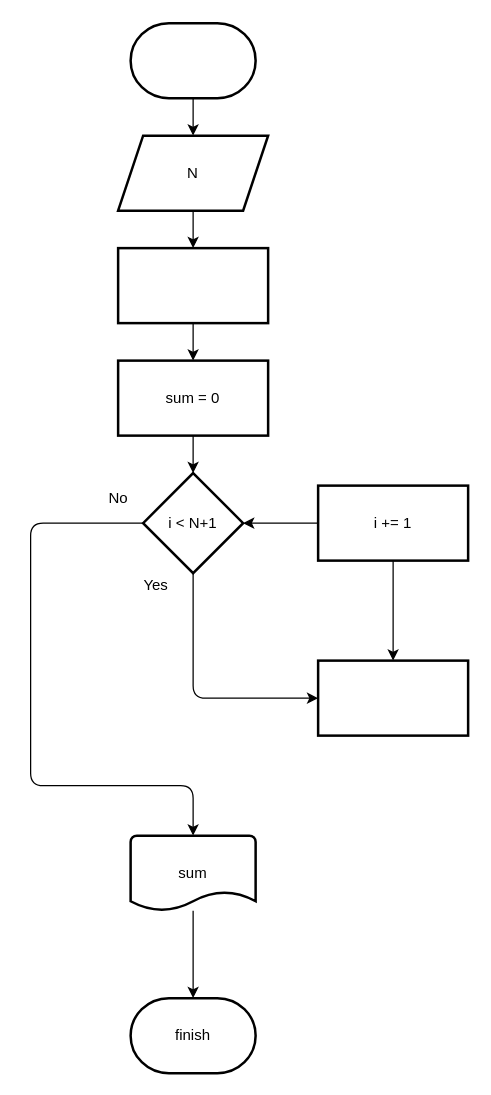
Some shapes in this 491 by 1095 pixel diagram are drawn without their labels. Each missing label, with the centre of its shape:
"i = 0" goes at point (192, 285).
"start" goes at point (192, 60).
"sum += i" goes at point (392, 697).
